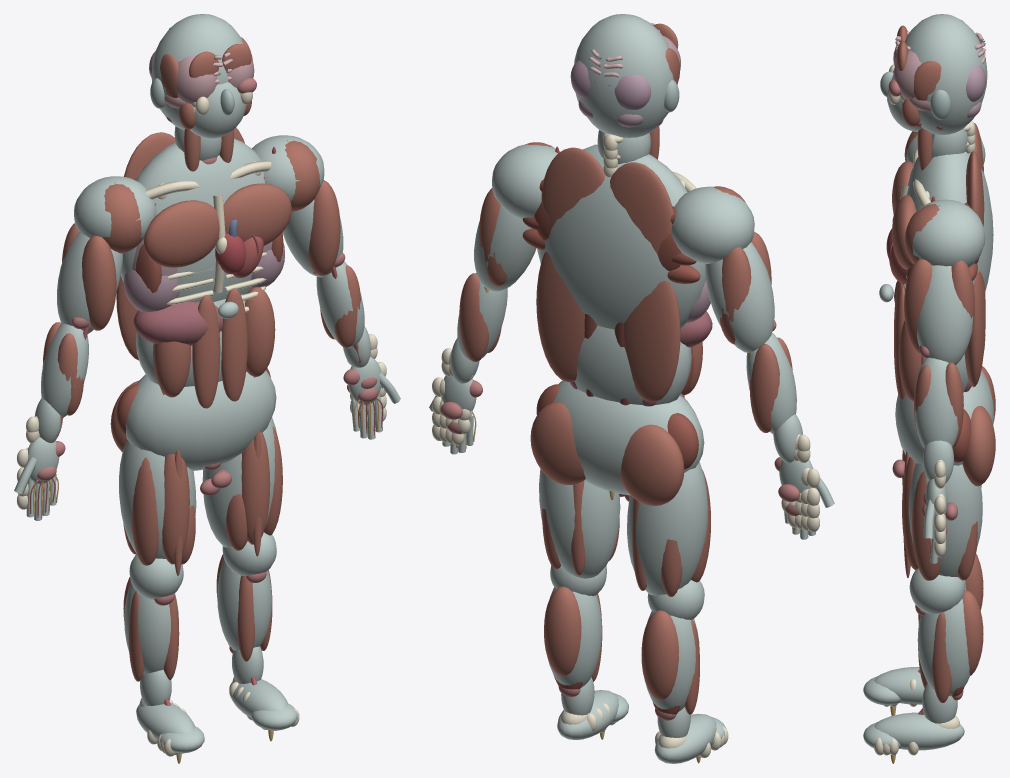
File: male.glb
3 renders of one model, left to right at view 1: azimuth 30°, elevation 25°; view 2: azimuth 150°, elevation 25°; view 3: azimuth 270°, elevation 25°, orthographic. The views are drawn at different scales.
Parts seen in each view (by area): view 1: abdomen-6, chest-4, dev-pectoralis-major-right, head-0, dev-pectoralis-major-left, right-leg-13, right-arm-8, left-leg-32, dev-biceps-brachii-right, liver-302, right-leg-15, right-arm-9 (+43 smaller); view 2: chest-4, head-0, abdomen-6, right-leg-13, left-leg-30, dev-latissimus-dorsi-right, right-arm-8, abdomen-5, dev-latissimus-dorsi-left, dev-gluteus-maximus-right, right-arm-9, dev-trapezius-right (+30 smaller); view 3: head-0, left-arm-26, left-arm-25, chest-4, left-leg-30, left-leg-32, left-arm-27, foot-34, abdomen-6, dev-gluteus-maximus-left, left-leg-31, dev-biceps-brachii-left (+37 smaller).
Boxes of the visible parts, x1,y1,x2,y2 form: abdomen-6: (125, 370, 276, 470); chest-4: (121, 138, 264, 302); dev-pectoralis-major-right: (143, 200, 219, 267); head-0: (151, 14, 242, 130); dev-pectoralis-major-left: (223, 183, 291, 245); right-leg-13: (119, 439, 196, 558); right-arm-8: (74, 176, 156, 241); left-leg-32: (217, 560, 271, 650); dev-biceps-brachii-right: (82, 235, 116, 330); liver-302: (133, 302, 222, 345); right-leg-15: (124, 583, 178, 673); right-arm-9: (57, 231, 122, 333); chest-4: (537, 144, 705, 329); head-0: (574, 14, 676, 137); abdomen-6: (553, 380, 704, 495); right-leg-13: (627, 462, 707, 595); left-leg-30: (539, 469, 620, 578); dev-latissimus-dorsi-right: (624, 281, 680, 402); right-arm-8: (671, 186, 754, 263); abdomen-5: (574, 325, 691, 404); dev-latissimus-dorsi-left: (536, 252, 584, 381); dev-gluteus-maximus-right: (620, 424, 684, 505); right-arm-9: (705, 242, 774, 352); dev-trapezius-right: (610, 162, 673, 254); head-0: (905, 14, 987, 134); left-arm-26: (917, 265, 974, 364); left-arm-25: (910, 199, 985, 267); chest-4: (907, 152, 993, 292); left-leg-30: (908, 463, 982, 577); left-leg-32: (917, 598, 970, 696); left-arm-27: (914, 357, 958, 448); foot-34: (874, 712, 964, 750); abdomen-6: (895, 370, 994, 465); dev-gluteus-maximus-left: (962, 406, 995, 486); left-leg-31: (909, 568, 965, 613); dev-biceps-brachii-left: (904, 258, 932, 353).
Bounding box in the file's own units: 3.35 × 5.97 × 0.992.
